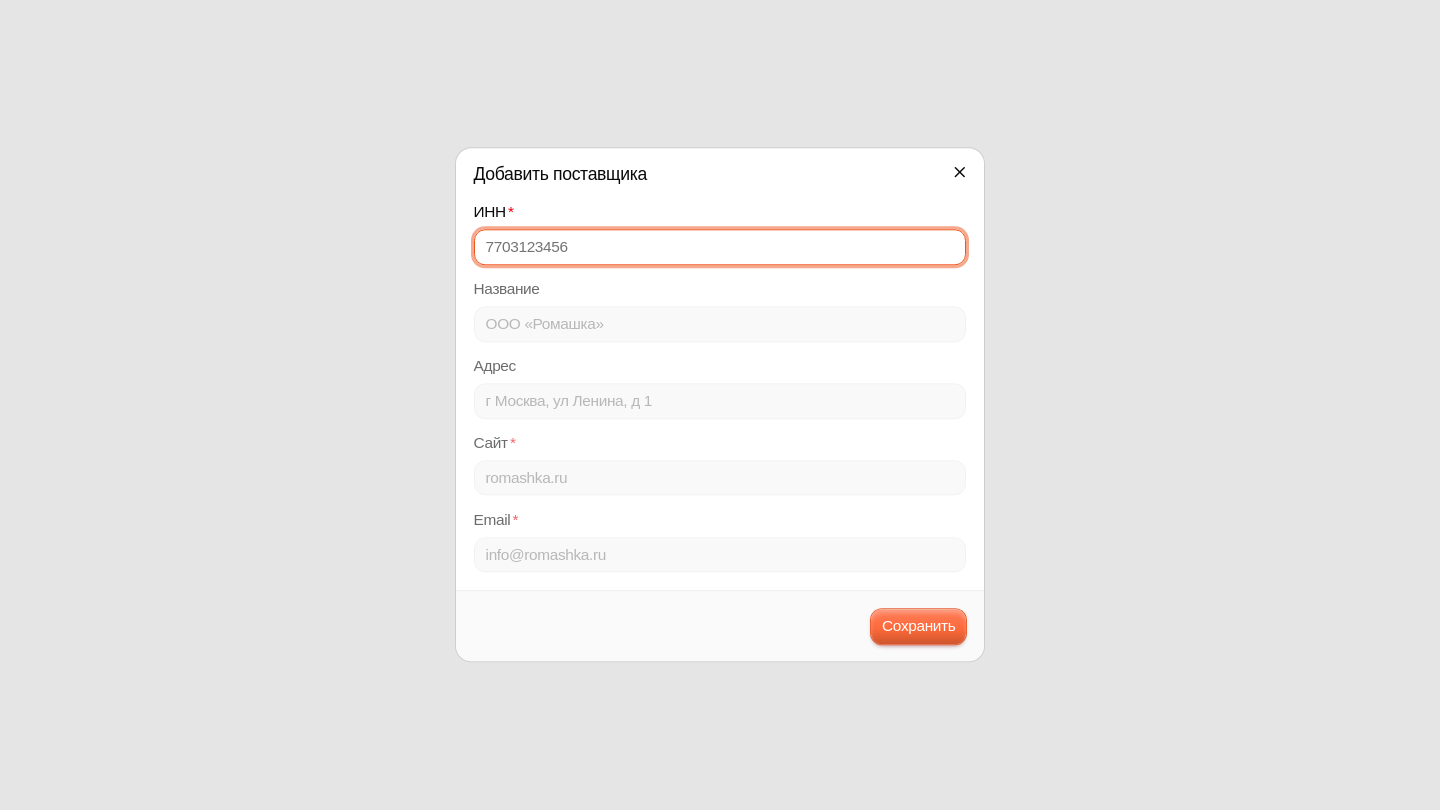
it: AddSupplierDialog › rejects save when INN is too short
In the field labelled "ИНН": (720,247) [474,230,966,265], type "770"
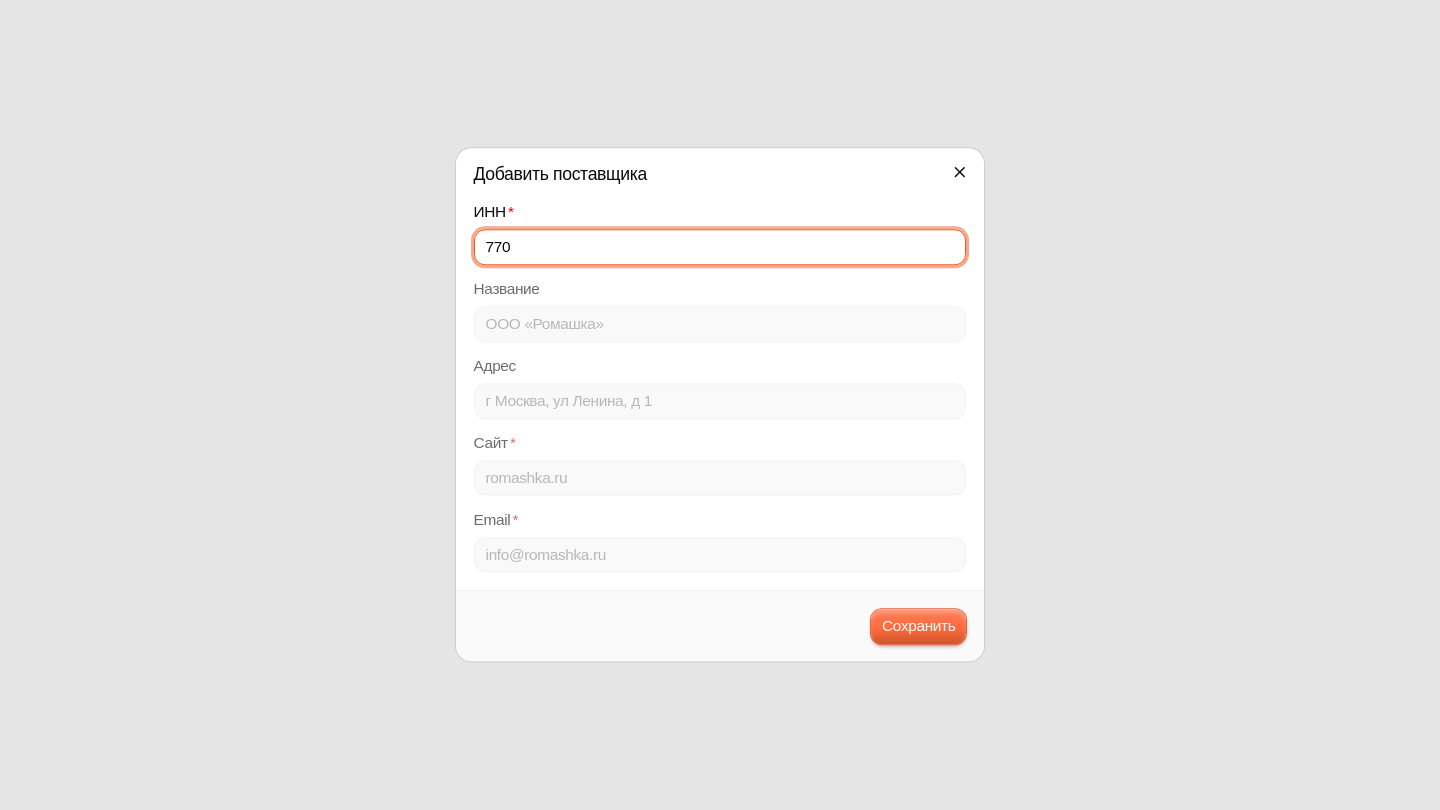
Click the button "Сохранить": (919,626) [871,609,966,644]
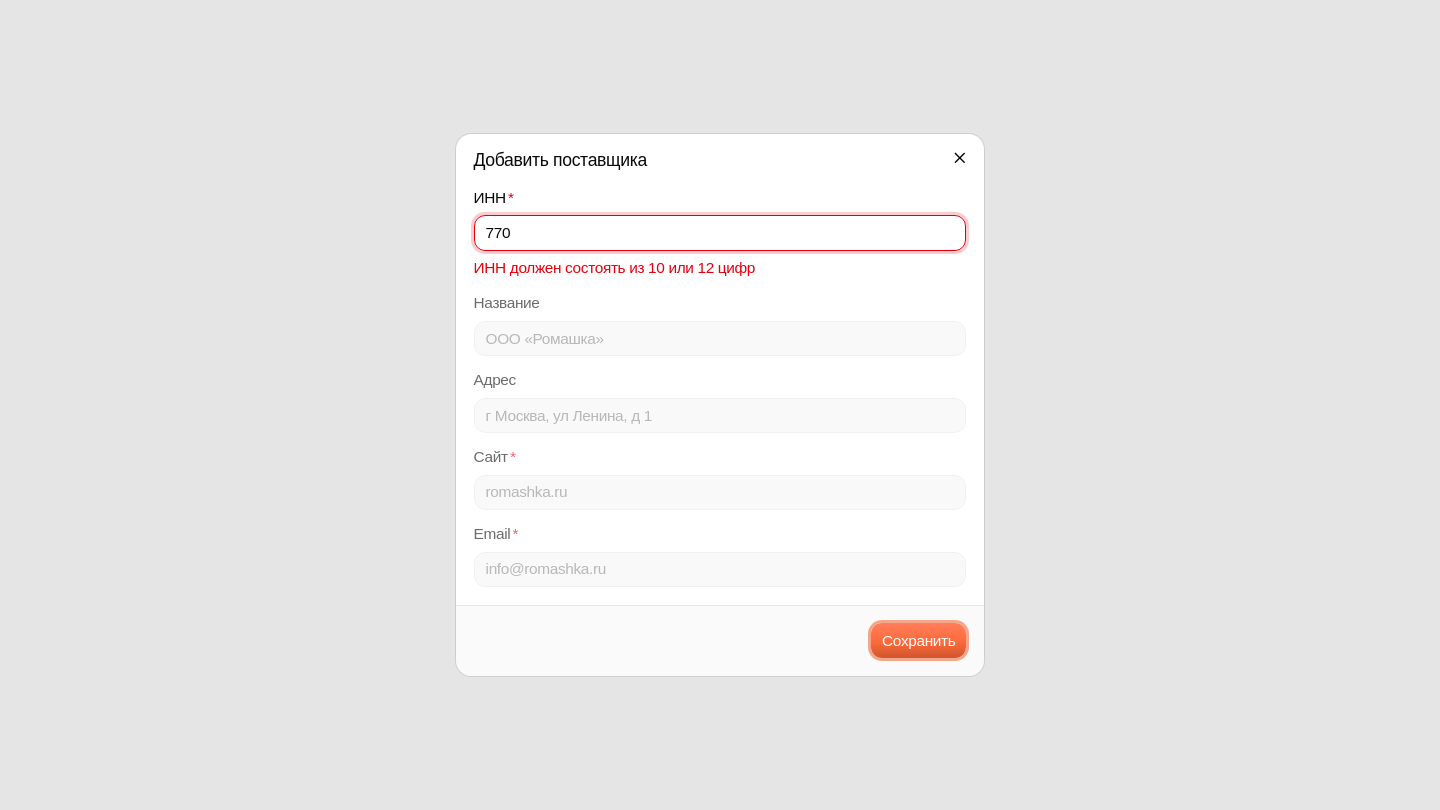
Expected: the text "ИНН должен состоять из 10 или 12 цифр" is shown, [474,259,755,276]
